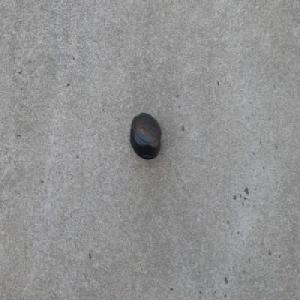FuelCap: (129, 112, 161, 161)
